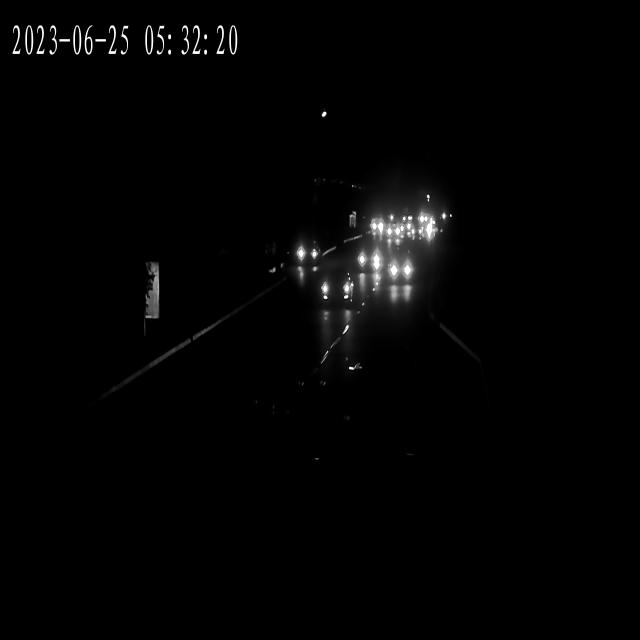Car: (318, 269, 358, 316), (351, 233, 385, 283), (292, 234, 322, 282), (393, 200, 416, 247), (413, 210, 438, 243), (388, 255, 413, 283), (384, 220, 402, 246), (366, 208, 385, 232)
